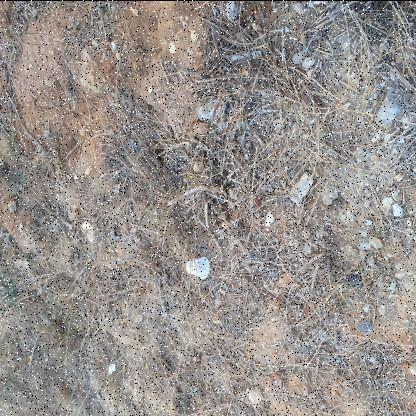cardboard: (186, 255, 210, 279)
